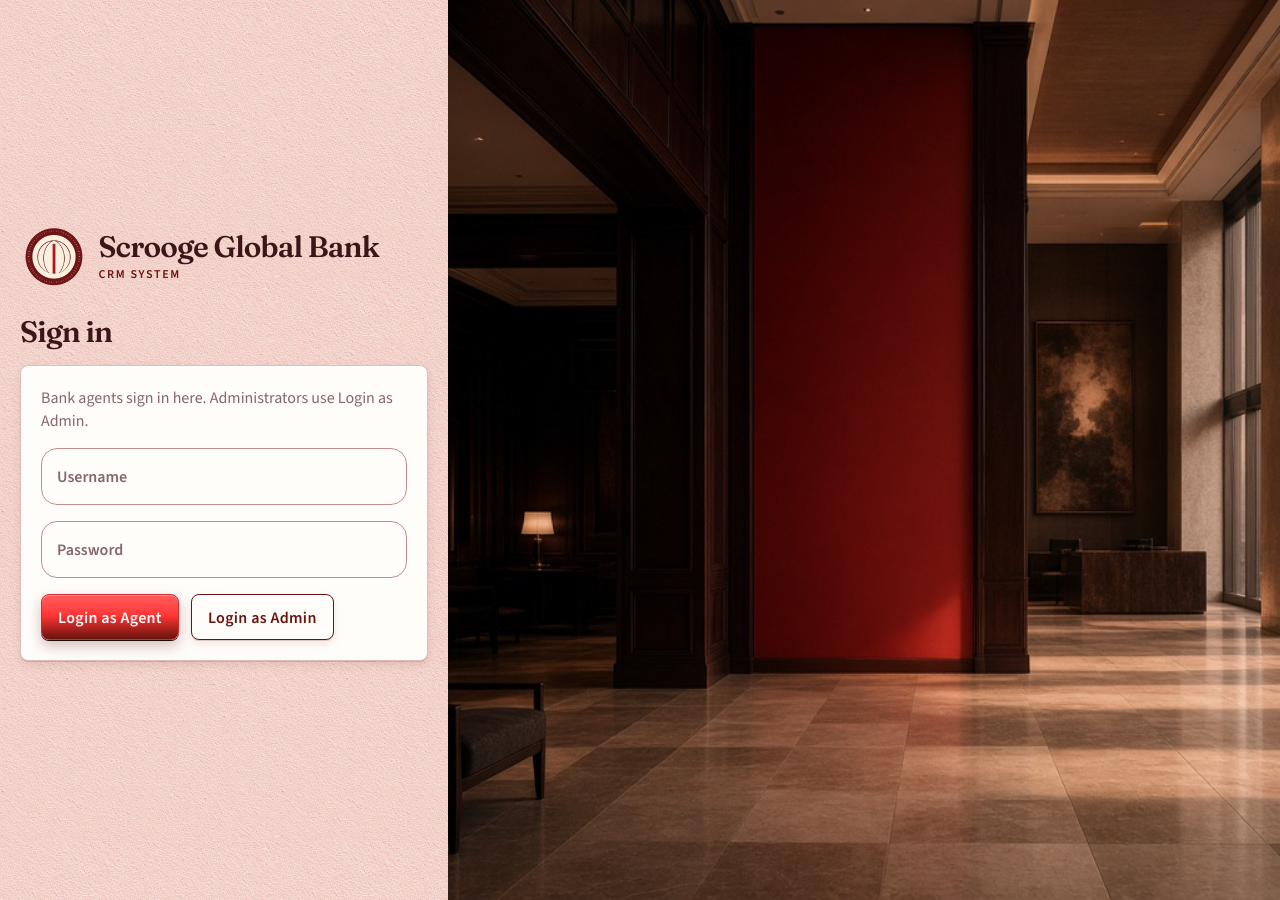
Test: CRM wireframe › opens the client list and create form from the agent dashboard
The image size is (1280, 900).
In the field labelled "Username": {"x": 224, "y": 477} [41,448,407,505], type "jdoe"
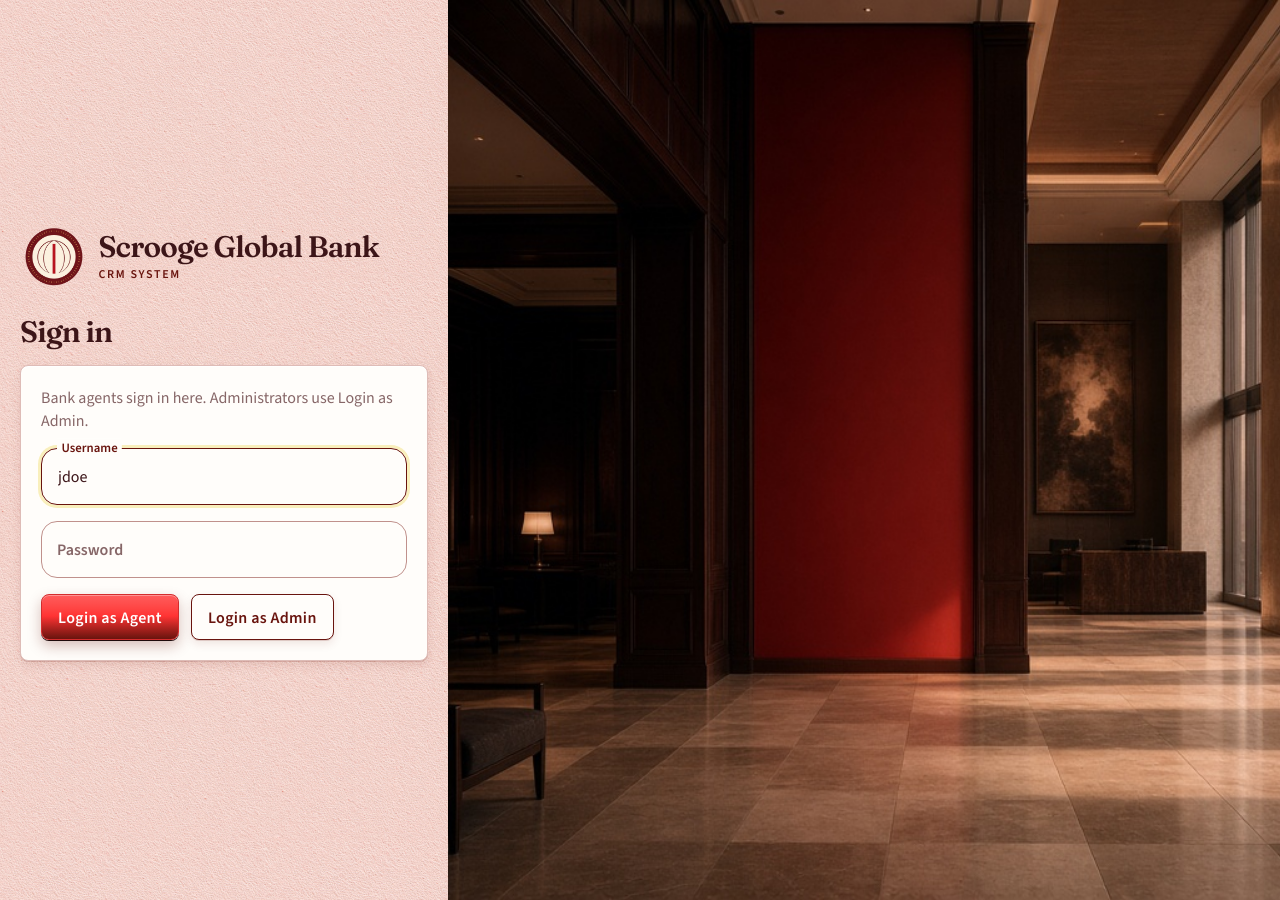
In the password field labelled "Password": {"x": 224, "y": 550} [41,521,407,578], type "password"
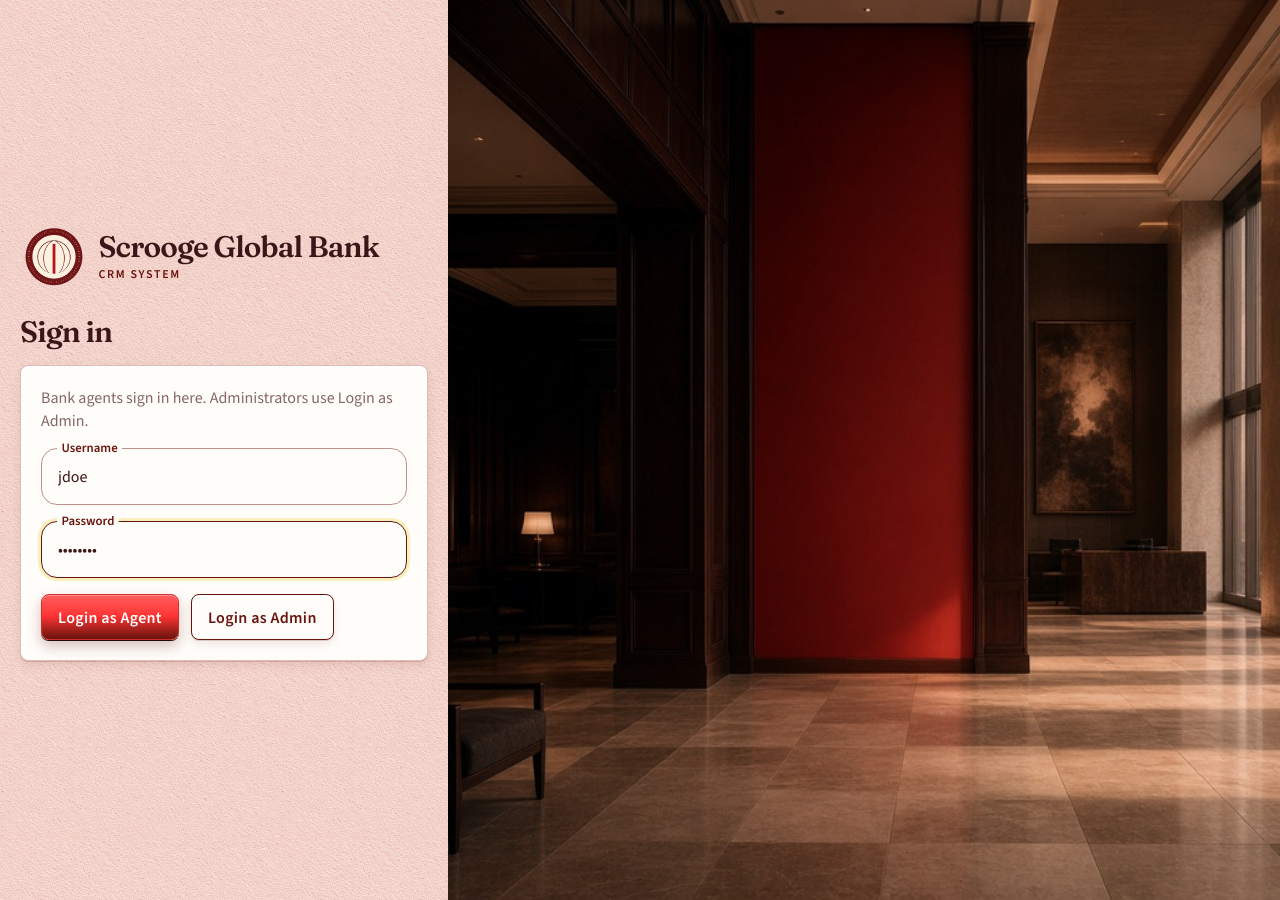
Click the button "Login as Agent": {"x": 110, "y": 617} [41,594,179,640]
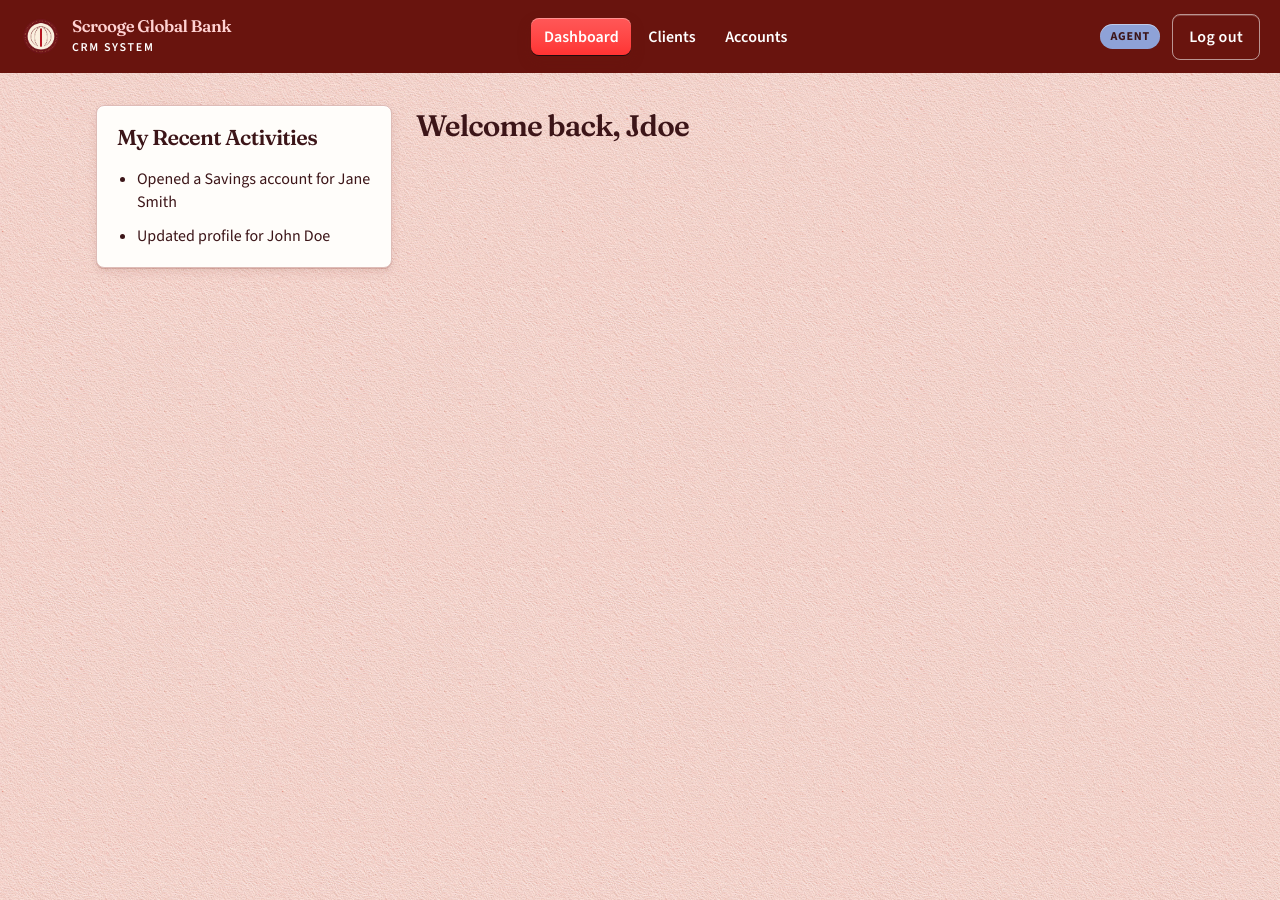
Click the link "Clients": {"x": 672, "y": 36} [648,26,696,47]
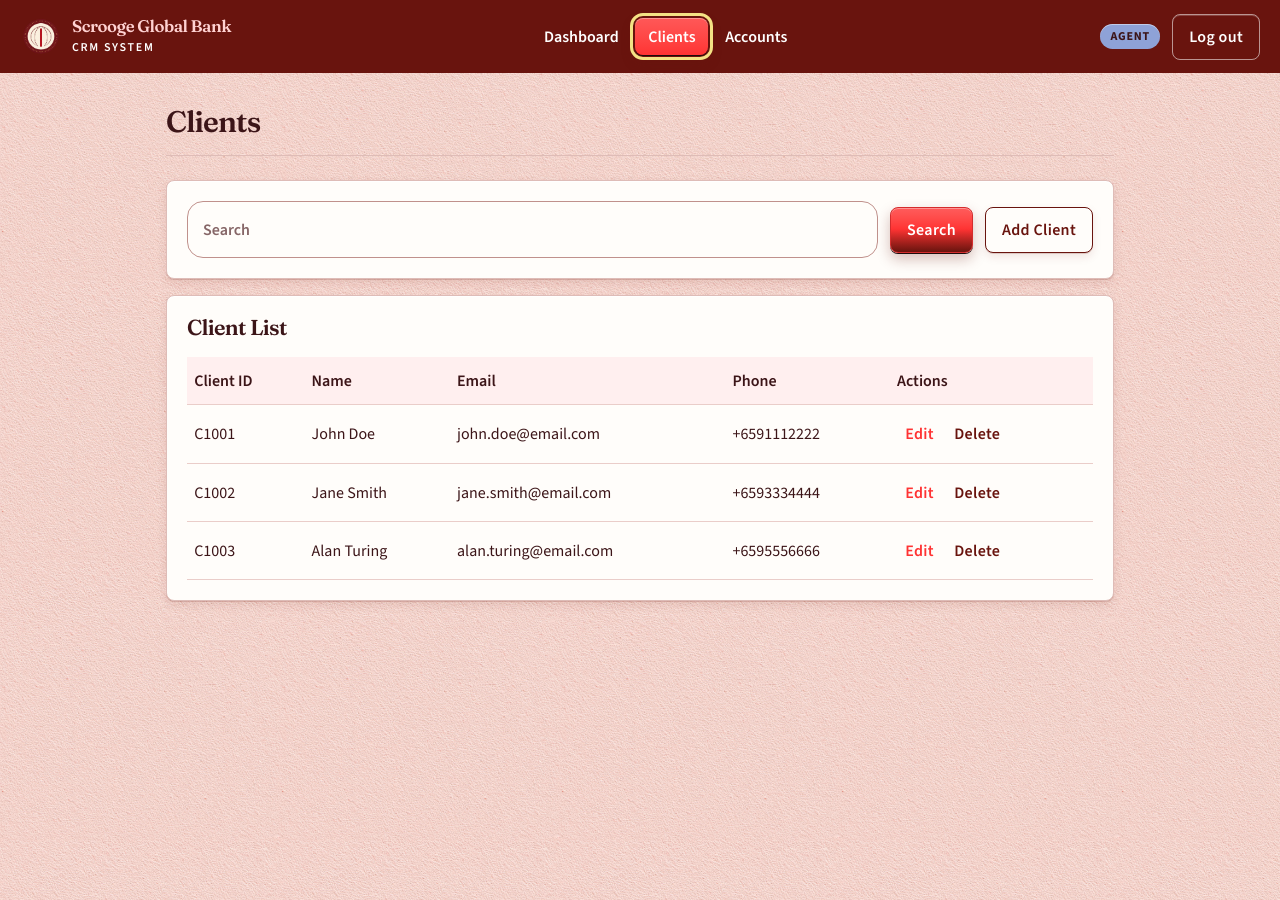
Now the text "Jane Smith" is shown, box [304,463,450,521]
Now the heading "Clients" is shown, box [166,103,260,140]
Now the table named "Client List" is shown, box [187,357,1093,580]
Click the button "Add Client": {"x": 1039, "y": 230} [985,207,1093,253]
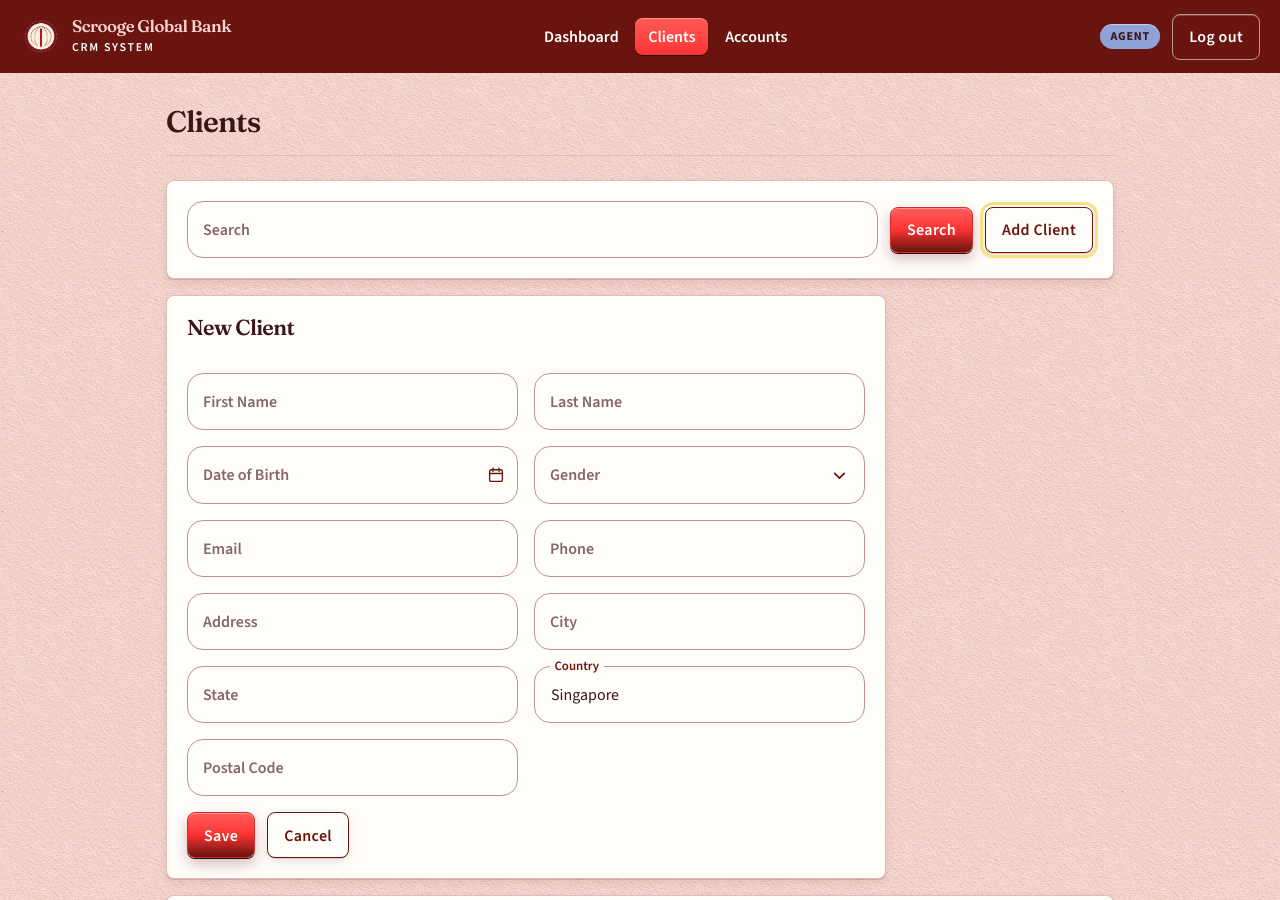
Now the heading "New Client" is shown, box [187,314,294,341]
Now the field labelled "Postal Code" is shown, box [187,739,518,796]
Now the dropdown labelled "Gender" is shown, box [534,446,865,504]
